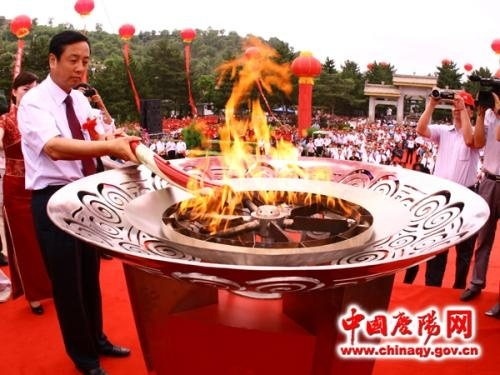fire: (182, 29, 347, 225)
